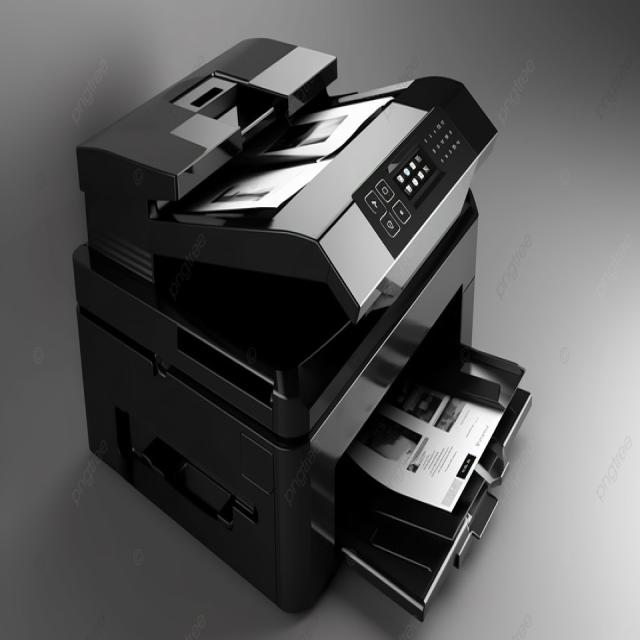printer: (71, 34, 532, 621)
